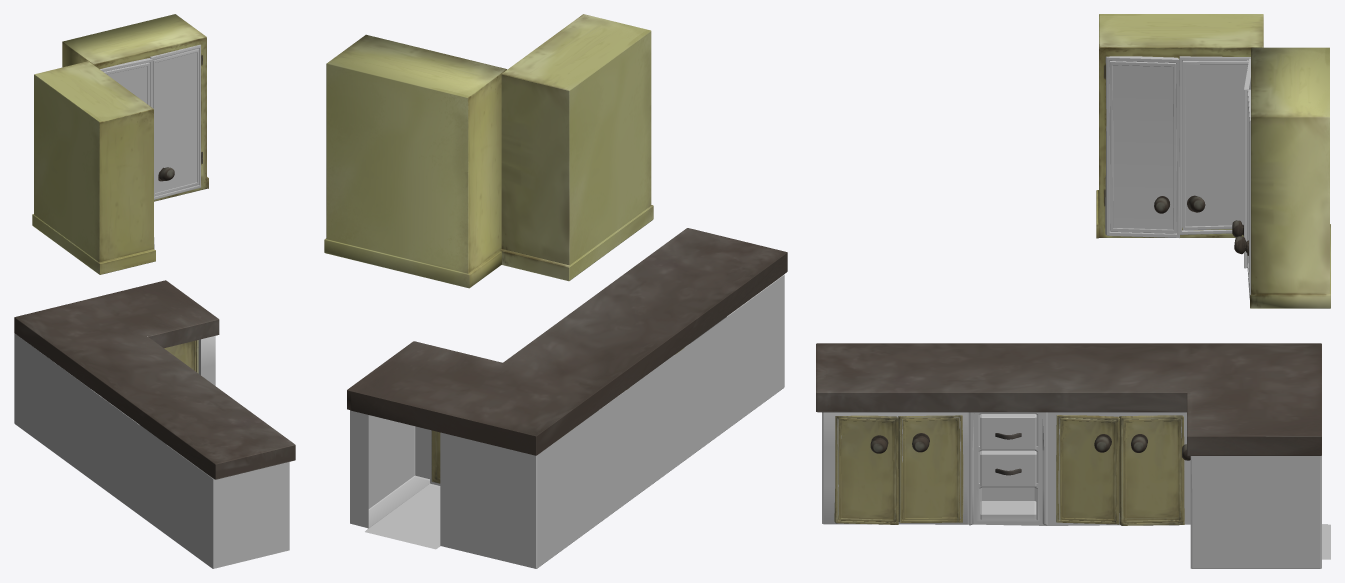
File: Cabinets-Counter.fbx
3 views of the same model, side by side, from view 1: azimuth 30°, elevation 25°; view 2: azimuth 150°, elevation 25°; view 3: azimuth 270°, elevation 25° (orthographic). The views are drawn at different scales.
Parts seen in each view (by area): view 1: kitchen counter, counter top, cabinet 2, door right, cabinet, door left, Door front facing view; view 2: kitchen counter, counter top, cabinet, cabinet 2; view 3: counter top, kitchen counter, cabinet, door left 2, door right 2, cabinet 2, right cabinets (R), left cabinets (R), left cabinets (L), right cabinets (L), door left, door right.
Boxes of the visible parts, x1,y1,x2,y2 form: kitchen counter: (14, 333, 289, 568); counter top: (14, 280, 295, 479); cabinet 2: (32, 61, 155, 274); door right: (150, 44, 200, 199); cabinet: (62, 14, 208, 201); door left: (100, 58, 152, 107); Door front facing view: (164, 340, 198, 373); kitchen counter: (350, 274, 784, 568); counter top: (347, 228, 787, 455); cabinet: (324, 34, 506, 288); cabinet 2: (500, 14, 653, 281); counter top: (816, 343, 1321, 455); kitchen counter: (822, 412, 1330, 568); cabinet: (1250, 47, 1330, 308); door left 2: (1105, 56, 1179, 237); door right 2: (1179, 56, 1250, 234); cabinet 2: (1096, 14, 1263, 238); right cabinets (R): (1119, 415, 1184, 525); left cabinets (R): (898, 415, 963, 522); left cabinets (L): (834, 415, 898, 524); right cabinets (L): (1056, 415, 1119, 524); door left: (1244, 58, 1250, 268); door right: (1247, 89, 1250, 299).
Bounding box in the file's own units: 625 × 1292 × 1302.
